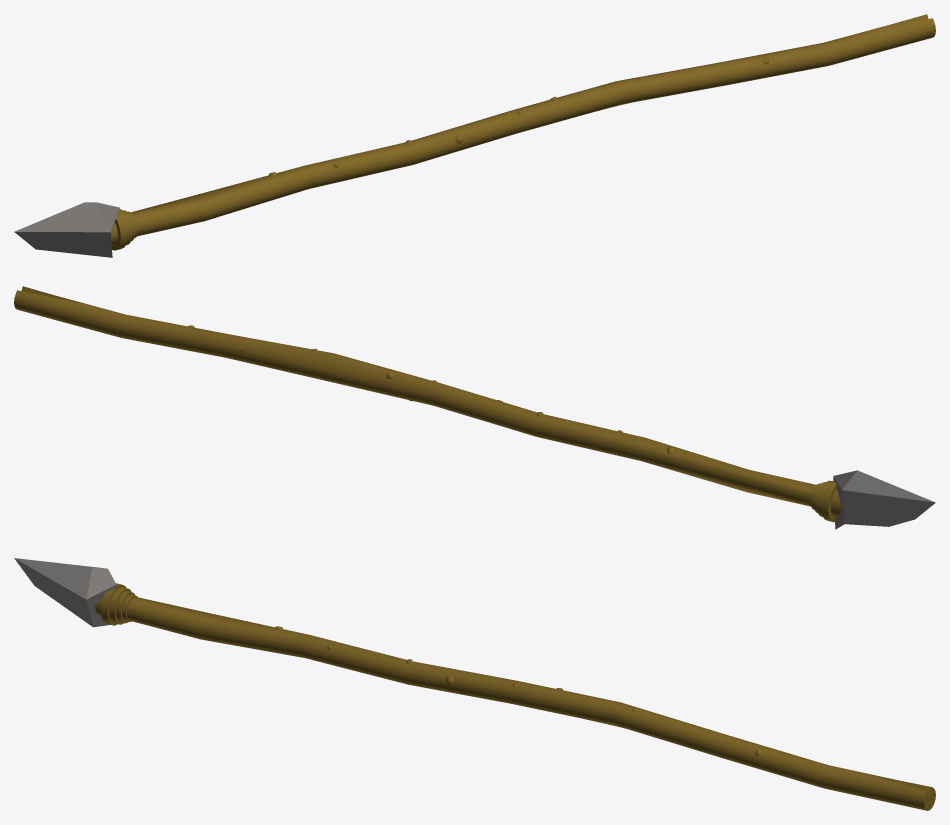
The model's file is Копьё blend.fbx.
The picture shows the model from 3 angles, top to bottom: view 1: azimuth 30°, elevation 25°; view 2: azimuth 150°, elevation 25°; view 3: azimuth 330°, elevation 25°; orthographic projection.
Visible parts, largest first — view 1: Spear; view 2: Spear; view 3: Spear.
Boxes of the visible parts, x1,y1,x2,y2 form: Spear: [14, 14, 935, 257]; Spear: [14, 286, 935, 529]; Spear: [14, 558, 935, 810].
Size of the model in its own units: 154 by 9.32 by 7.19.
